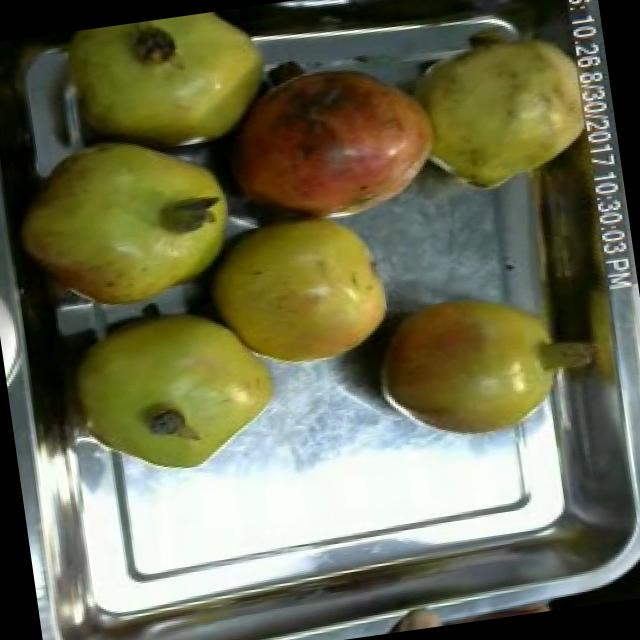fruit: (0, 103, 270, 344), (197, 37, 463, 251), (50, 292, 300, 496), (394, 6, 624, 209), (185, 190, 408, 390), (55, 2, 303, 181), (358, 273, 592, 459), (370, 598, 463, 636)
